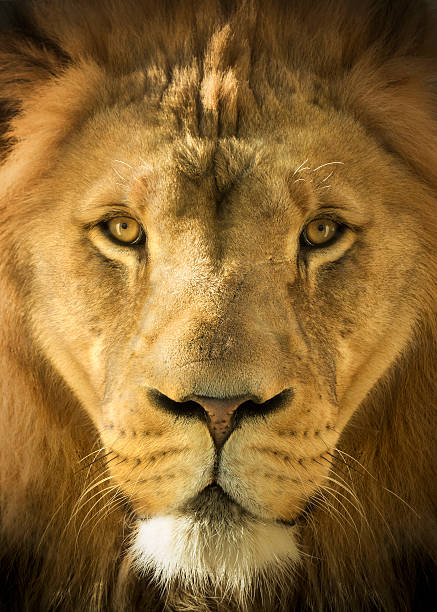lion: (4, 11, 430, 612)
